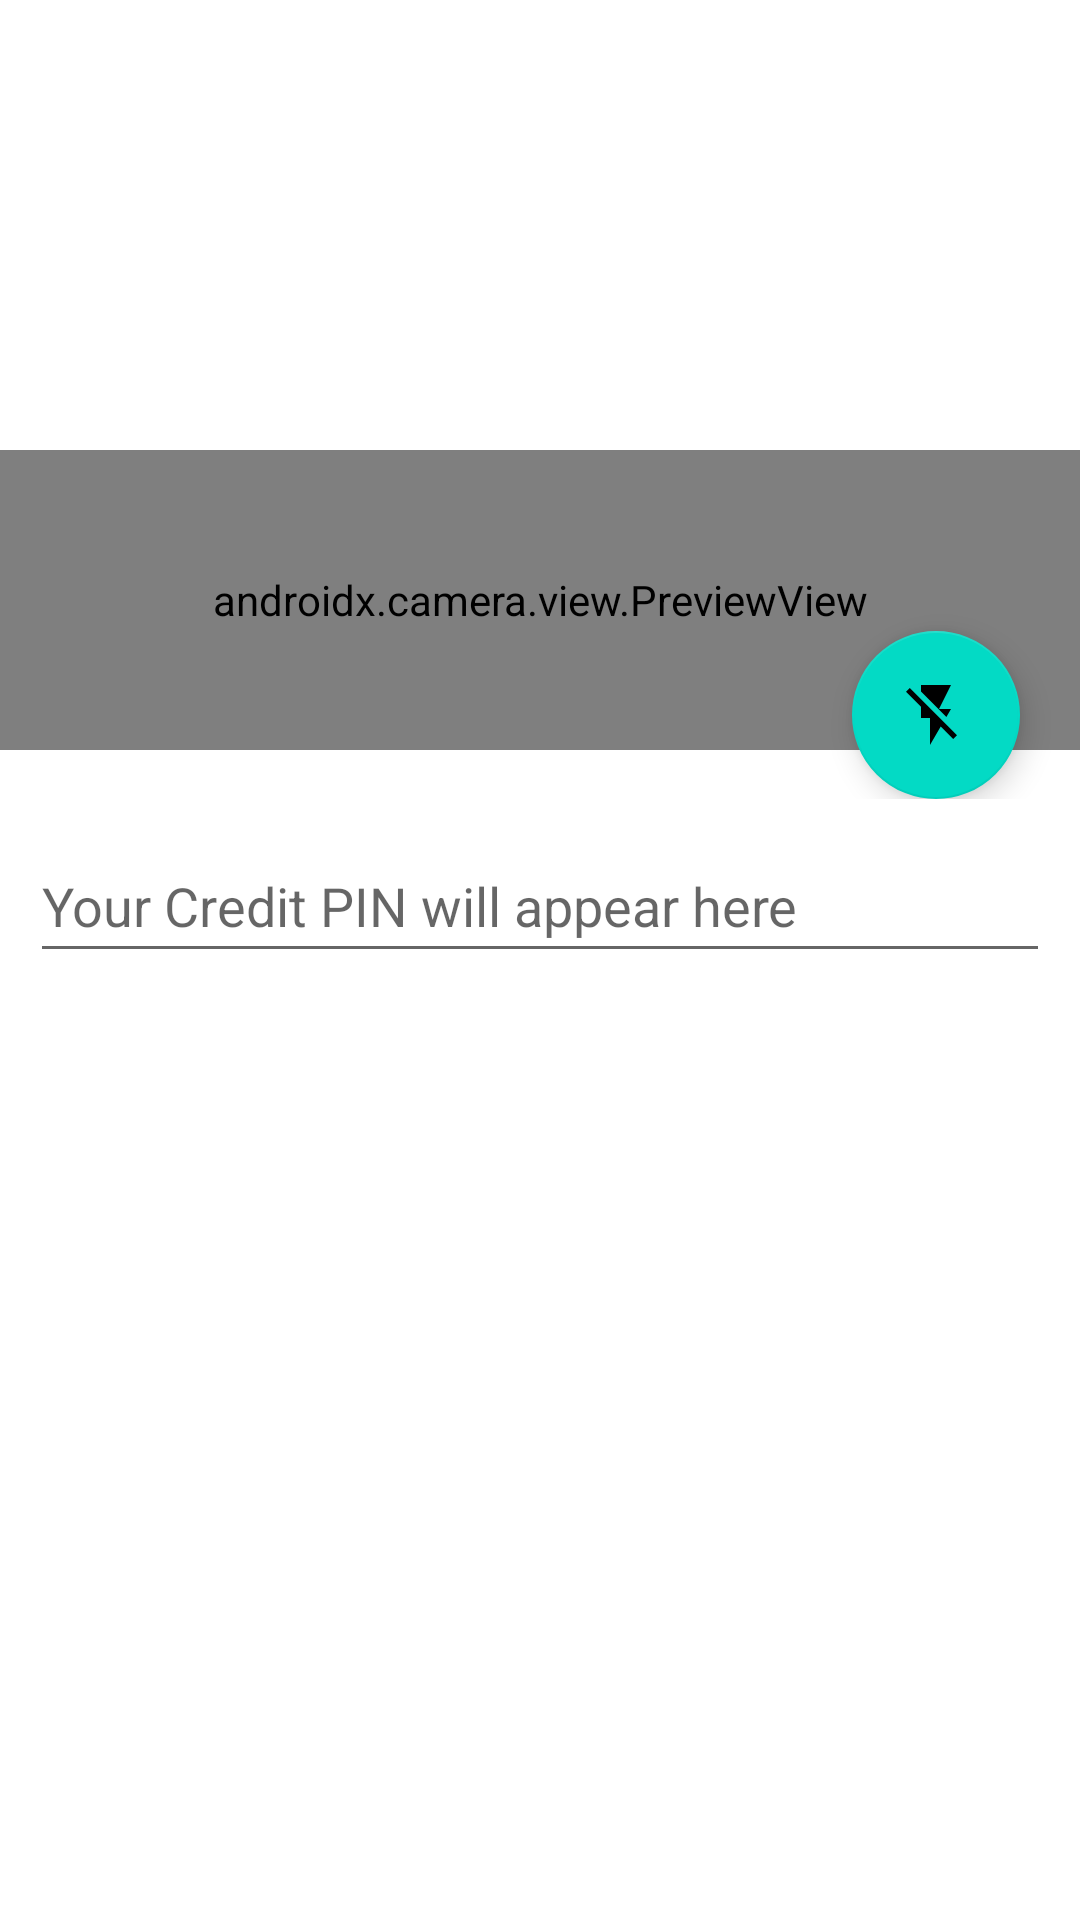

Screen size 1080 x 1920. Icon name, then its center in pixels as (x=x, y=y):
Toggle Flash: (x=936, y=715)
